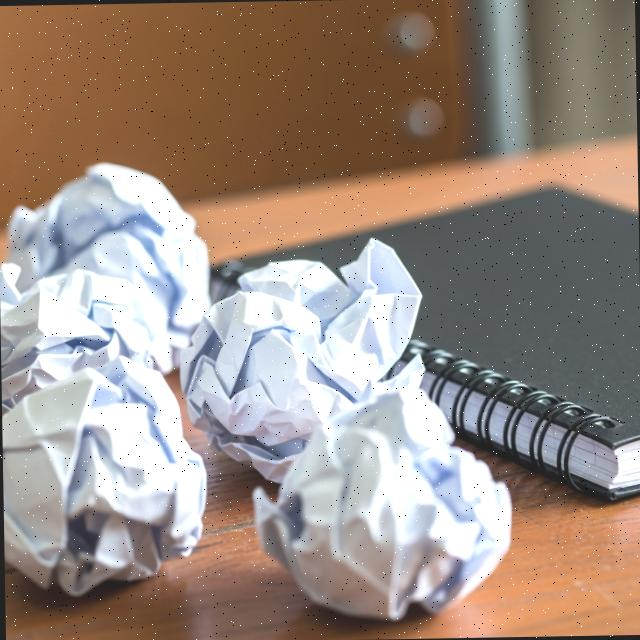paper: (180, 246, 438, 480), (257, 386, 512, 622), (1, 366, 206, 590), (0, 160, 215, 369), (0, 249, 156, 435)
